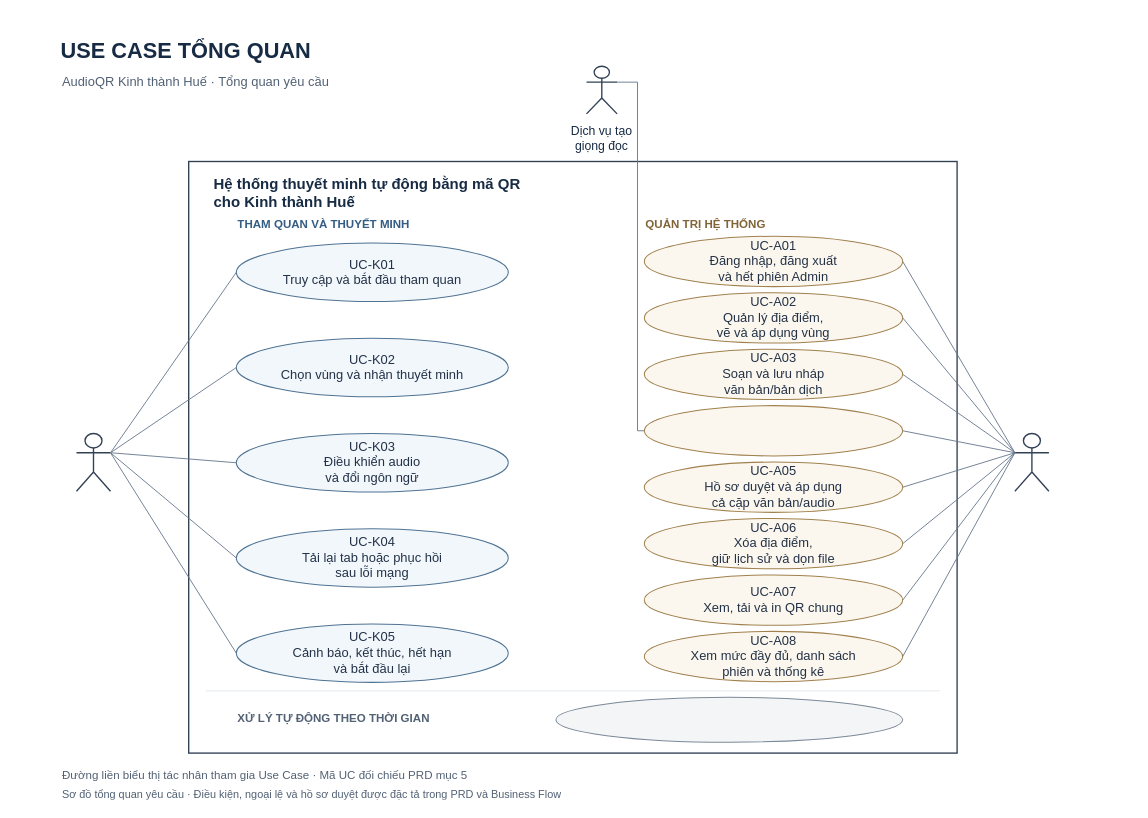
This 1148x818 diagram has some shape labels left out. Each missing label, with the centre of its shape:
"Admin" goes at point 1031,462.
"Khách tham quan" goes at point 93,462.
"UC-A04 Tạo audio và theo dõi tác vụ" goes at point 773,430.
"UC-D01 Tự xóa dữ liệu hết hạn lưu" goes at point 729,719.
